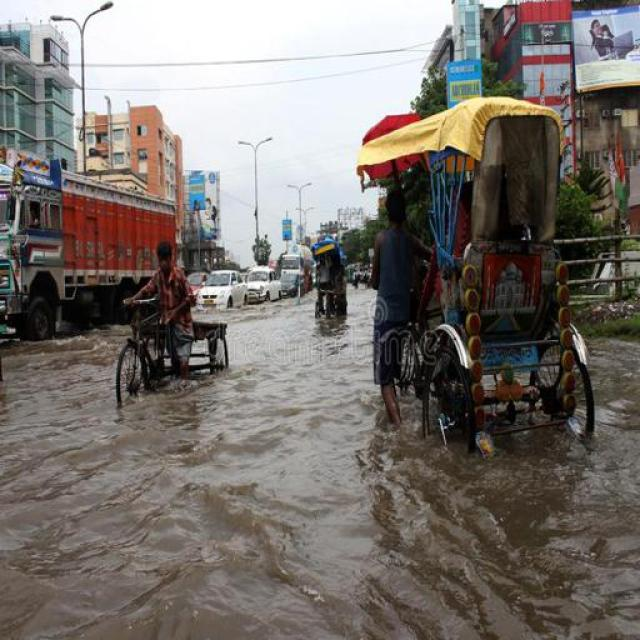puddle: (12, 407, 392, 633), (362, 452, 640, 640), (237, 317, 392, 463), (8, 343, 105, 442)
